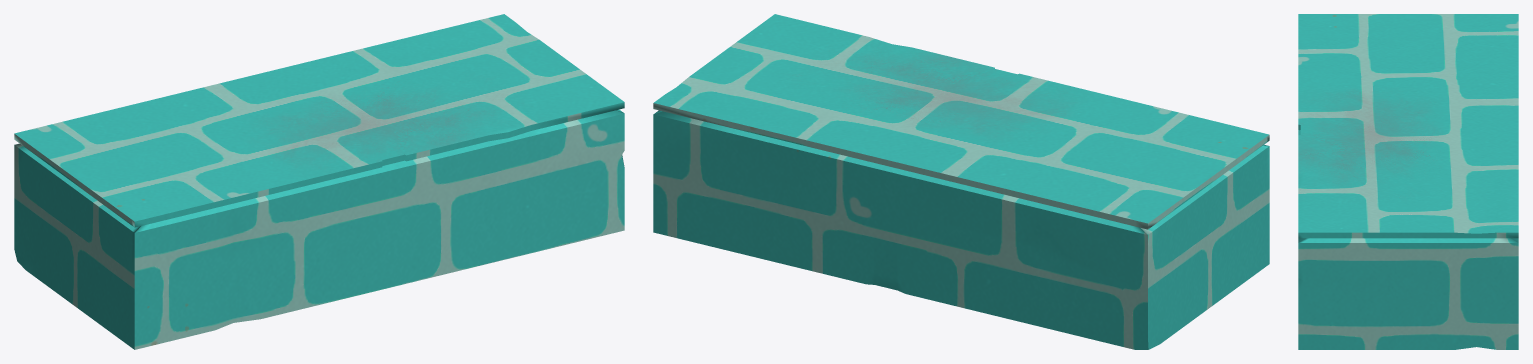
Rendered from Ragball_wallBrick_model_06.fbx.
3 views of the same model, side by side, from view 1: azimuth 30°, elevation 25°; view 2: azimuth 150°, elevation 25°; view 3: azimuth 270°, elevation 25° (orthographic). The views are drawn at different scales.
Visible parts, largest first — view 1: Brick; view 2: Brick; view 3: Brick.
Boxes of the visible parts, bbox=[...] form: Brick: bbox=[14, 14, 624, 349]; Brick: bbox=[653, 14, 1269, 349]; Brick: bbox=[1298, 14, 1518, 349].
Size of the model in its own units: 5.42 by 1.36 by 2.31.
